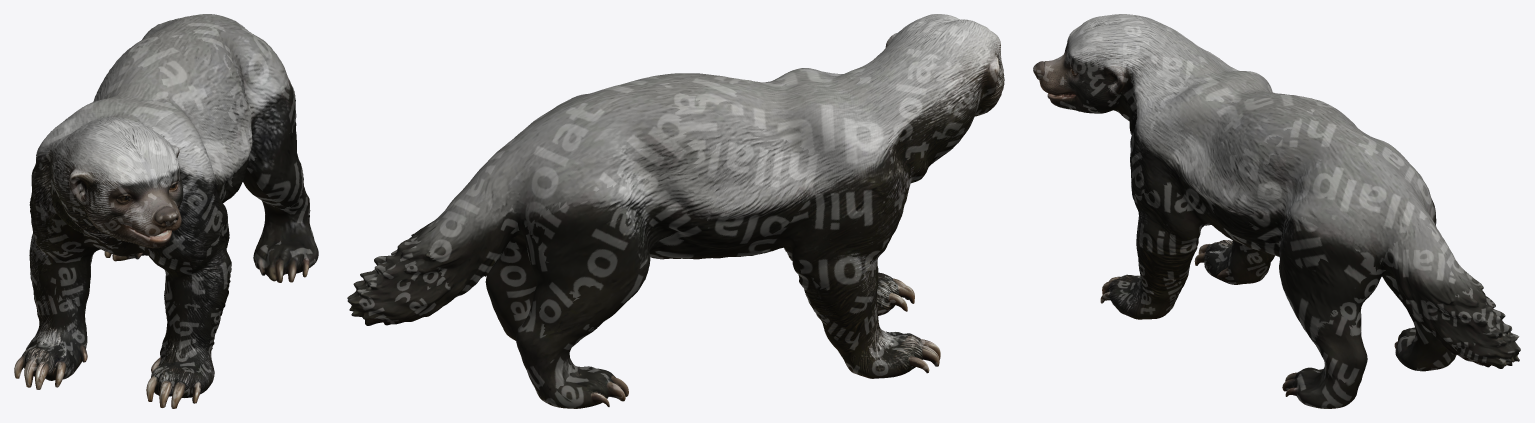
3 views of the same model, side by side, from view 1: azimuth 30°, elevation 25°; view 2: azimuth 150°, elevation 25°; view 3: azimuth 270°, elevation 25° (orthographic). The views are drawn at different scales.
Visible parts, largest first — view 1: tripo_node_de88c426-5bc0-4883-9b6c-c66b198d6b21; view 2: tripo_node_de88c426-5bc0-4883-9b6c-c66b198d6b21; view 3: tripo_node_de88c426-5bc0-4883-9b6c-c66b198d6b21.
Boxes of the visible parts, <box> form: tripo_node_de88c426-5bc0-4883-9b6c-c66b198d6b21: <box>14,14,318,408</box>; tripo_node_de88c426-5bc0-4883-9b6c-c66b198d6b21: <box>347,14,1004,408</box>; tripo_node_de88c426-5bc0-4883-9b6c-c66b198d6b21: <box>1033,14,1520,408</box>.
Size of the model in its own units: 0.8611 by 0.5717 by 0.9797.
1 material, 1 textured.
